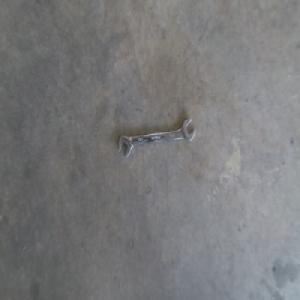Wrench: (118, 118, 196, 156)
